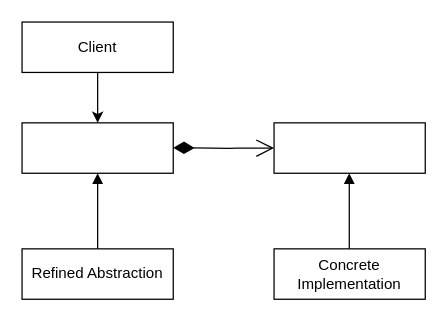
The diagram is 447 pixels wide and 321 high, and some of its shapes have lost their labels. The shapes that lost their labels are listed below. From the top down, each one's centre as x and y in pixels, then its label:
At [97,147]: "Abstraction".
At [349,147]: "Implementation".
